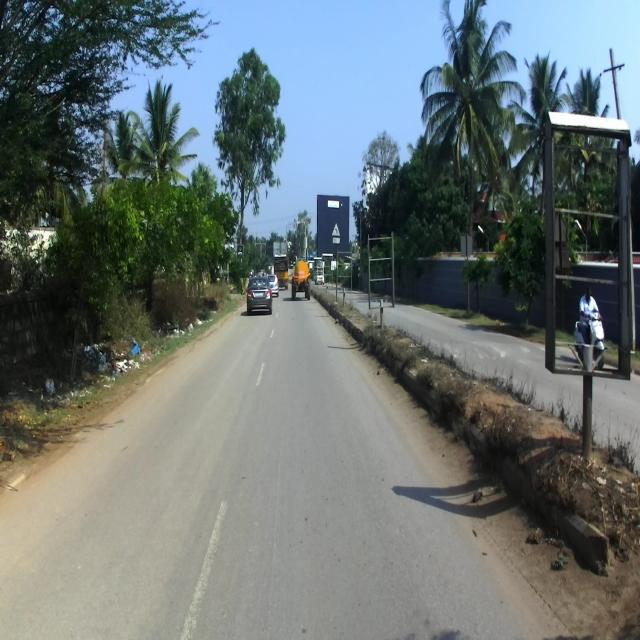Car_Maruti-Suzuki: (246, 276, 273, 314), (266, 274, 279, 296)
scooter: (572, 308, 605, 368)
